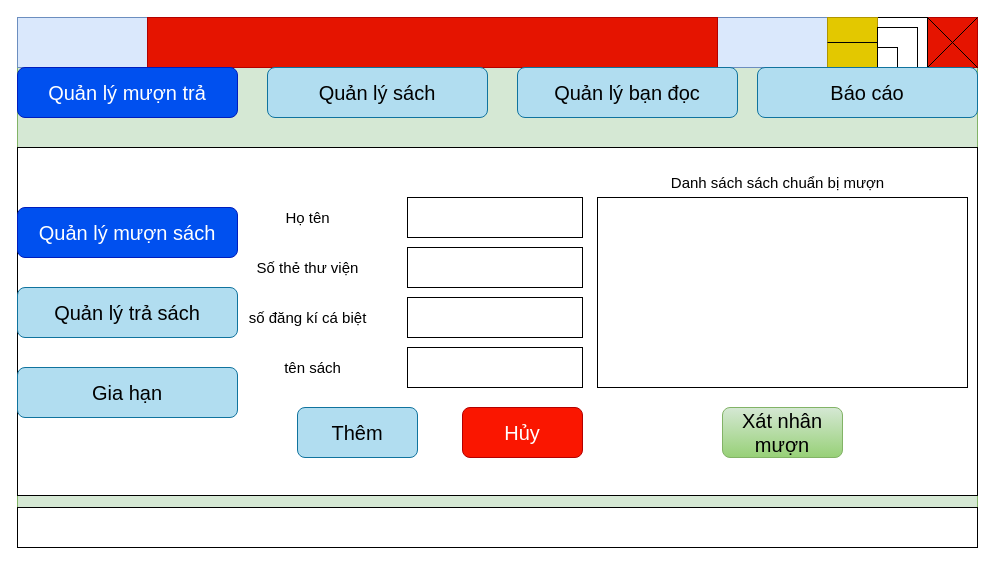
Image size: 996x565. Some labels were removed from this diagram. Each missing label, with the centre of its shape:
"Sô lượng: 10" goes at [782,292].
"thanh trạng thái Người đăng nhập: VÕ QUỐC HUY" goes at [497,527].
"THƯ VIỆN HỌC VIỆN KỸ THUẬT QUÂN SỰ" goes at [432,42].
